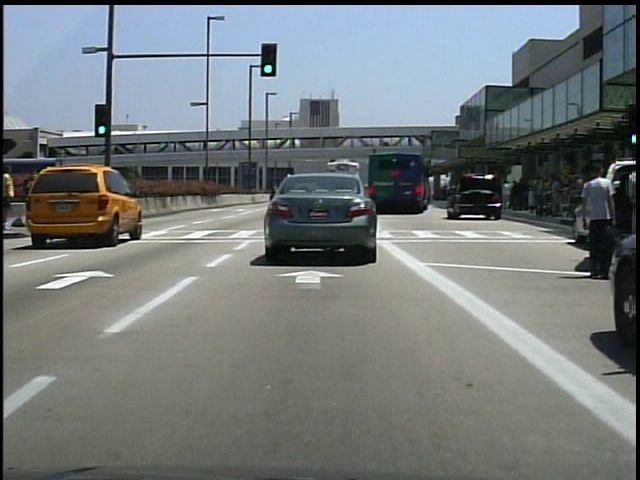person: (575, 156, 615, 282), (618, 147, 640, 236), (22, 166, 44, 227), (5, 165, 20, 232)
